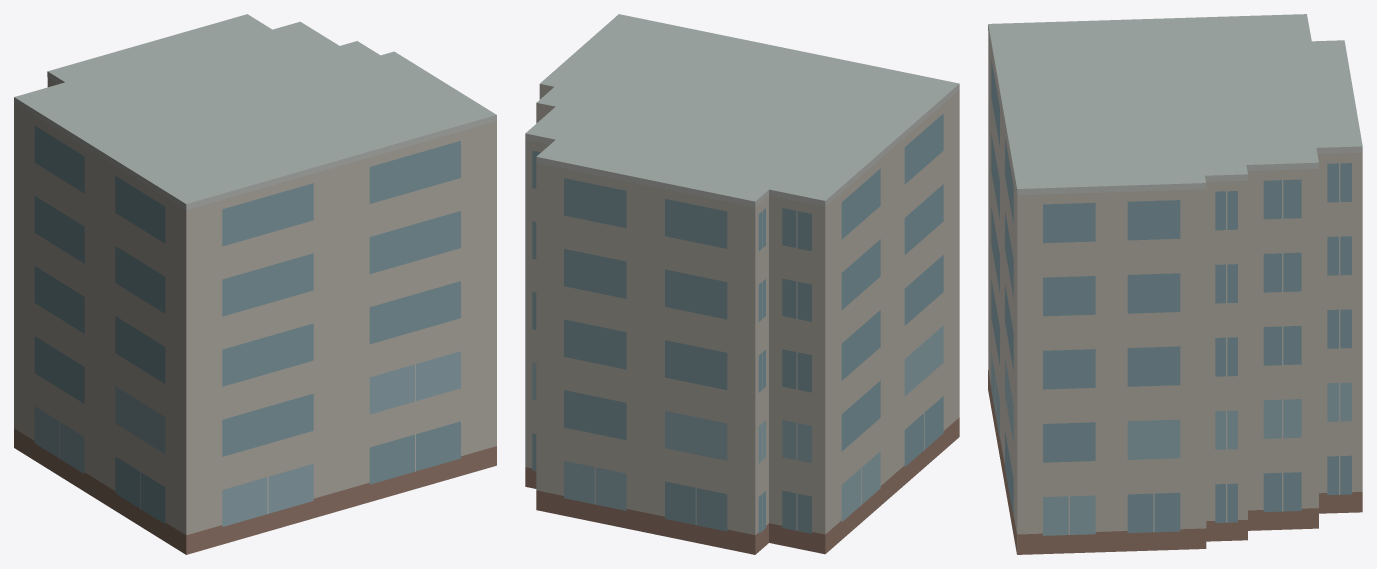
Rendered from survey-upis-32580341.glb.
The picture shows the model from 3 angles, left to right: view 1: azimuth 30°, elevation 25°; view 2: azimuth 150°, elevation 25°; view 3: azimuth 270°, elevation 25°; orthographic projection. The views are drawn at different scales.
Parts seen in each view (by area): view 1: survey-upis-32580341.tmp; view 2: survey-upis-32580341.tmp; view 3: survey-upis-32580341.tmp.
Boxes of the visible parts, x1,y1,x2,y2 form: survey-upis-32580341.tmp: [14, 14, 496, 554]; survey-upis-32580341.tmp: [525, 14, 959, 554]; survey-upis-32580341.tmp: [988, 14, 1362, 554].
Size of the model in its own units: 14.68 by 14.3 by 13.28.
